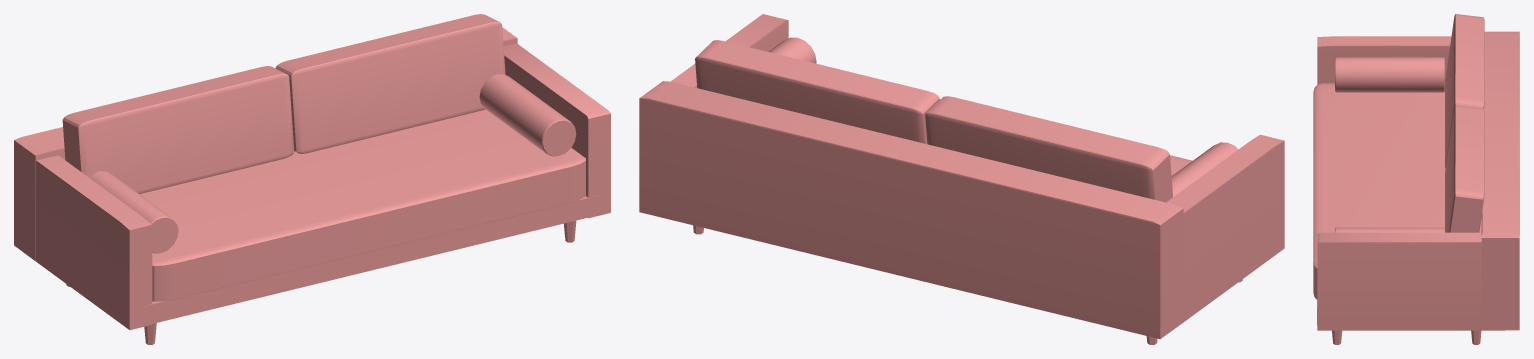
The model's file is whatissofa.fbx.
3 views of the same model, side by side, from view 1: azimuth 30°, elevation 25°; view 2: azimuth 150°, elevation 25°; view 3: azimuth 270°, elevation 25° (orthographic). The views are drawn at different scales.
Visible parts, largest first — view 1: Cylinder.003; view 2: Cylinder.003; view 3: Cylinder.003.
Part boxes in pixels (box(x1,y1,x2,y2)): Cylinder.003: box(14, 14, 610, 344); Cylinder.003: box(639, 14, 1284, 344); Cylinder.003: box(1313, 14, 1519, 344).
Size of the model in its own units: 424 by 144 by 179.
